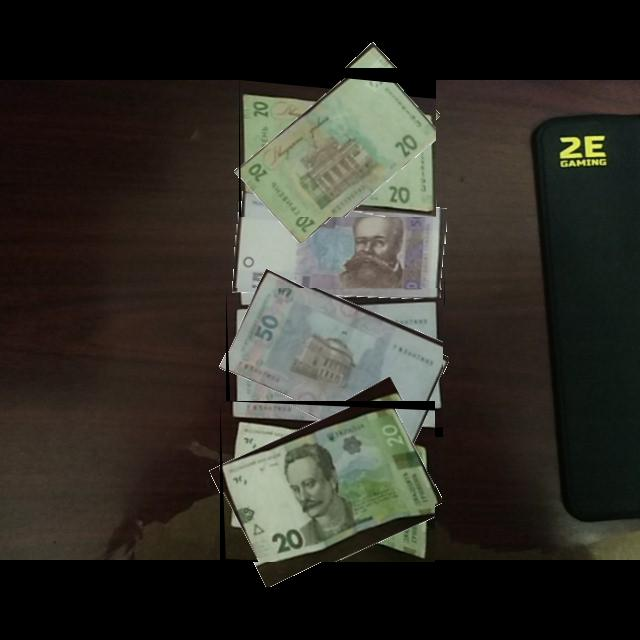20uah: (222, 408, 436, 563), (239, 68, 437, 218)
50uah: (226, 288, 444, 438), (234, 196, 446, 306)
